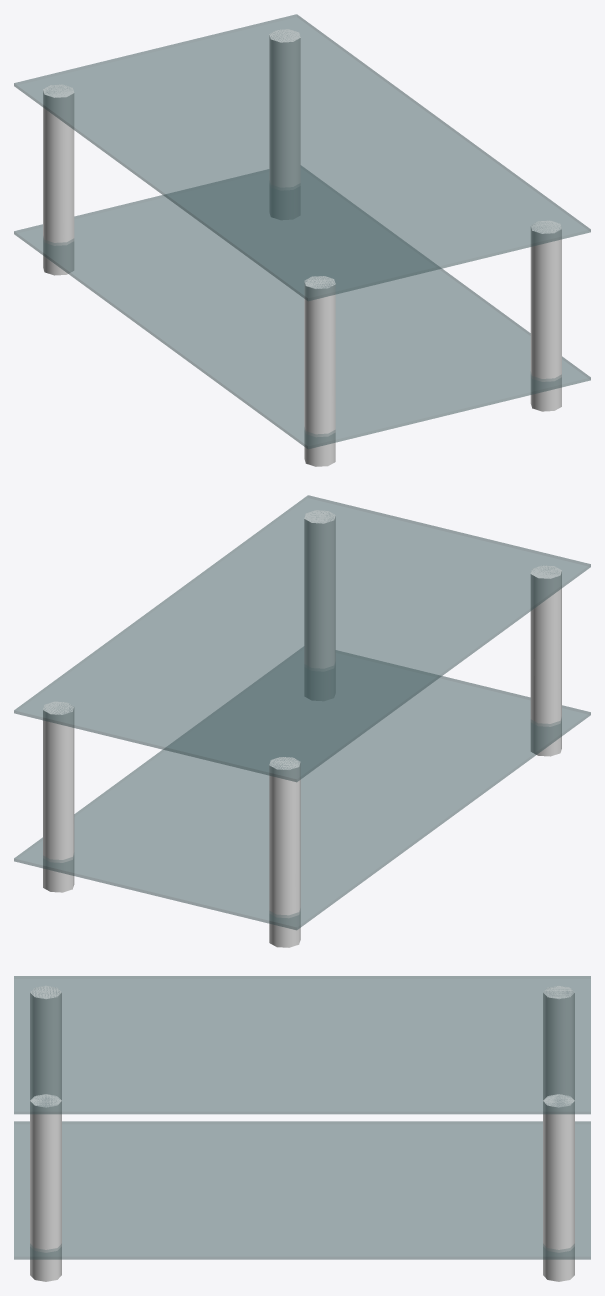
Rendered from office_loungeTable.gltf.
3 renders of one model, top to bottom at view 1: azimuth 30°, elevation 25°; view 2: azimuth 150°, elevation 25°; view 3: azimuth 270°, elevation 25°, orthographic.
Parts seen in each view (by area): view 1: Table; view 2: Table; view 3: Table.
Part boxes in pixels (left/top/right/bottom): Table: left=14, top=14, right=590, bottom=466; Table: left=14, top=495, right=590, bottom=947; Table: left=14, top=976, right=590, bottom=1281.
Size of the model in its own units: 1 by 0.61 by 1.8.
